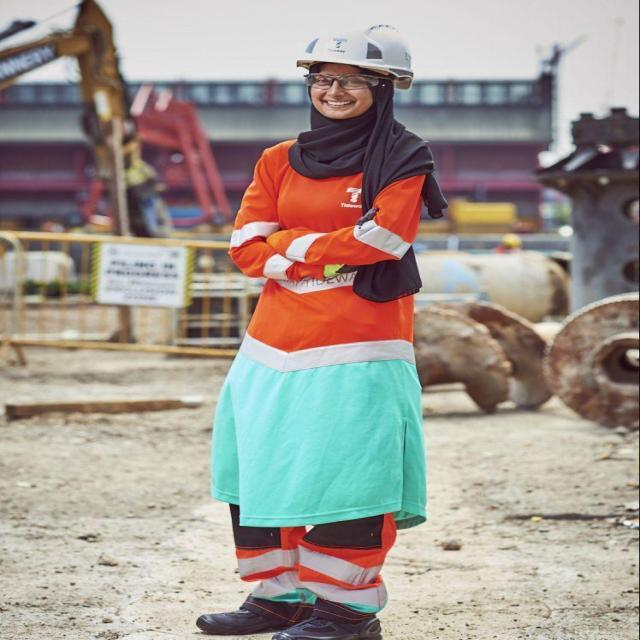hat: (276, 12, 424, 84)
